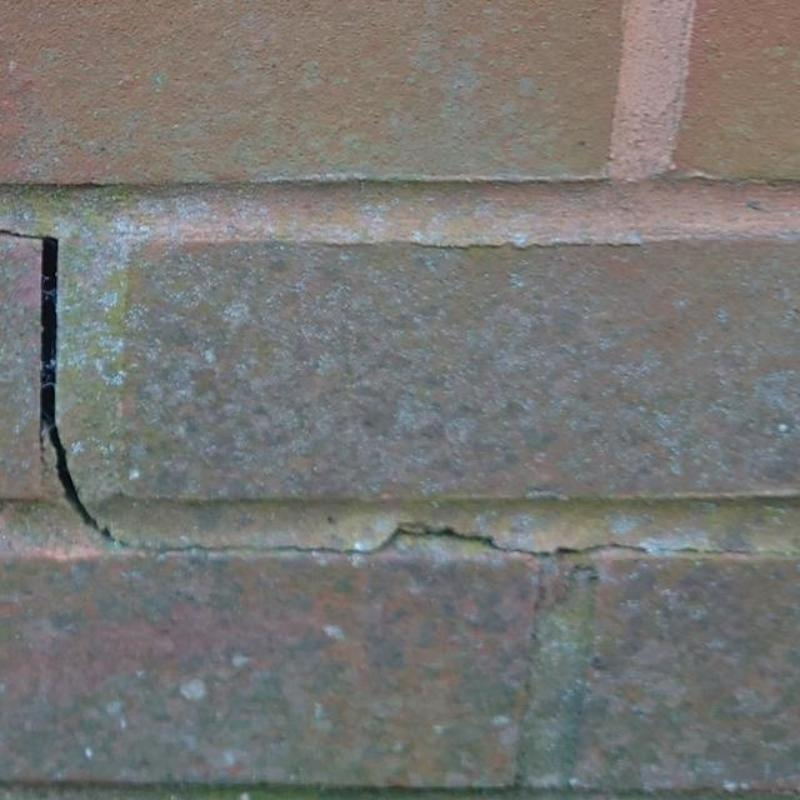pothole: (0, 228, 371, 556), (371, 521, 799, 558)
